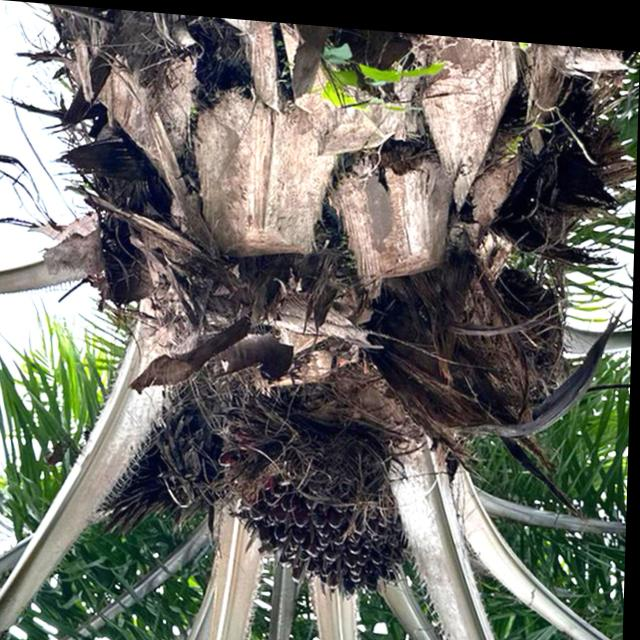almost: (214, 363, 419, 597)
